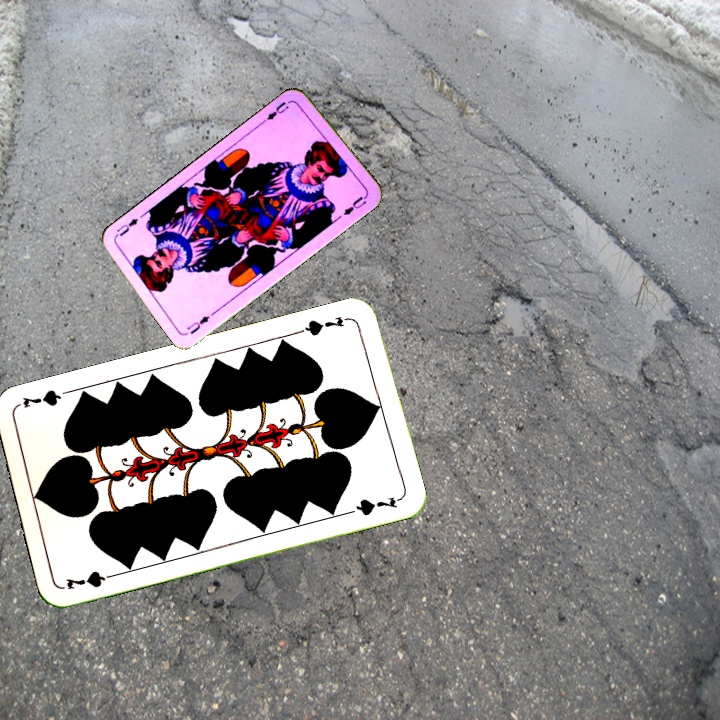EU: (263, 97, 292, 123), (183, 312, 212, 337)
G7: (295, 312, 354, 339), (62, 567, 121, 593)
